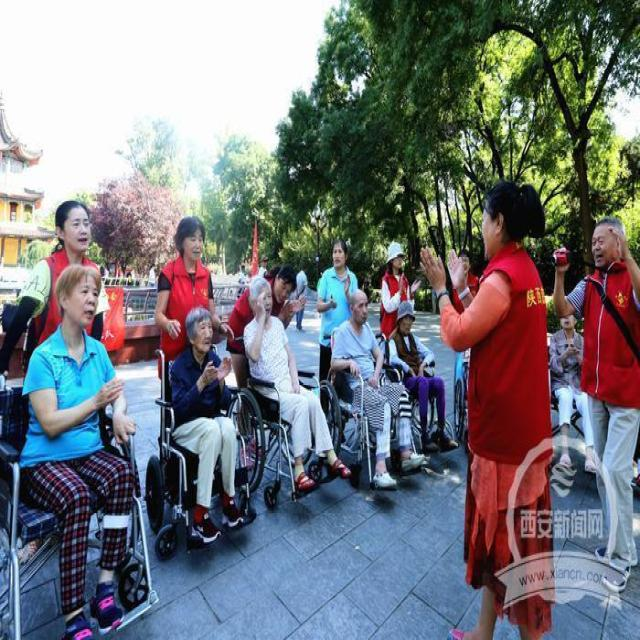wheelchairs: (0, 366, 163, 640), (143, 336, 259, 561), (228, 320, 338, 508), (320, 348, 430, 492)
